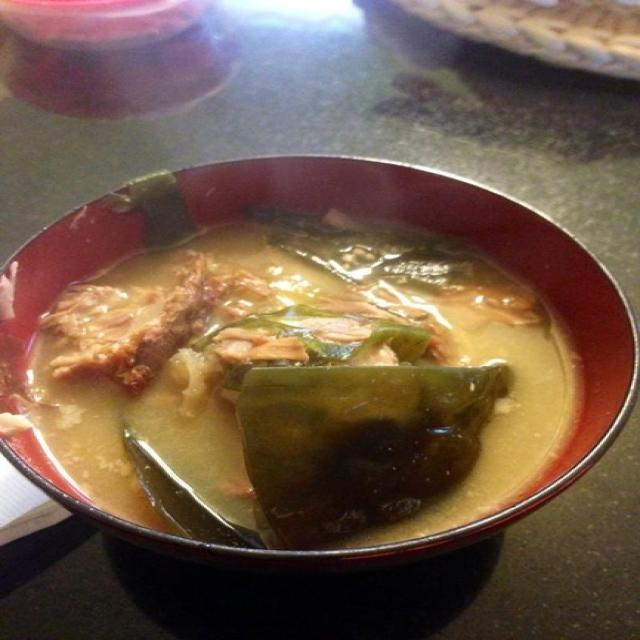汤锅炖物: (25, 103, 602, 605)
